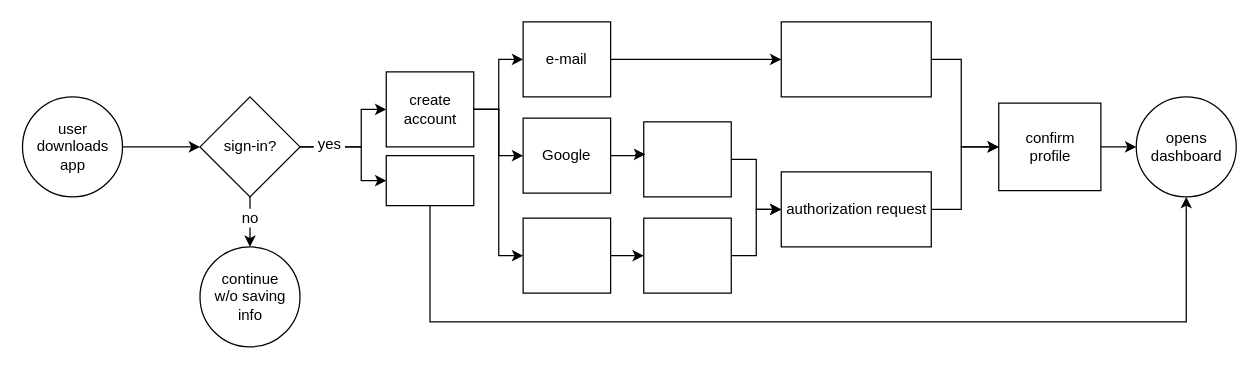
The diagram is 1258 pixels wide and 369 high, and some of its shapes have lost their labels. The centre of each missing label's shape, as x and y in pixels:
"create username and password" belongs at (x=855, y=59).
"Facebook" belongs at (x=566, y=255).
"Facebook login" belongs at (x=686, y=255).
"Google login" belongs at (x=686, y=159).
"sign-in" belongs at (x=429, y=180).
